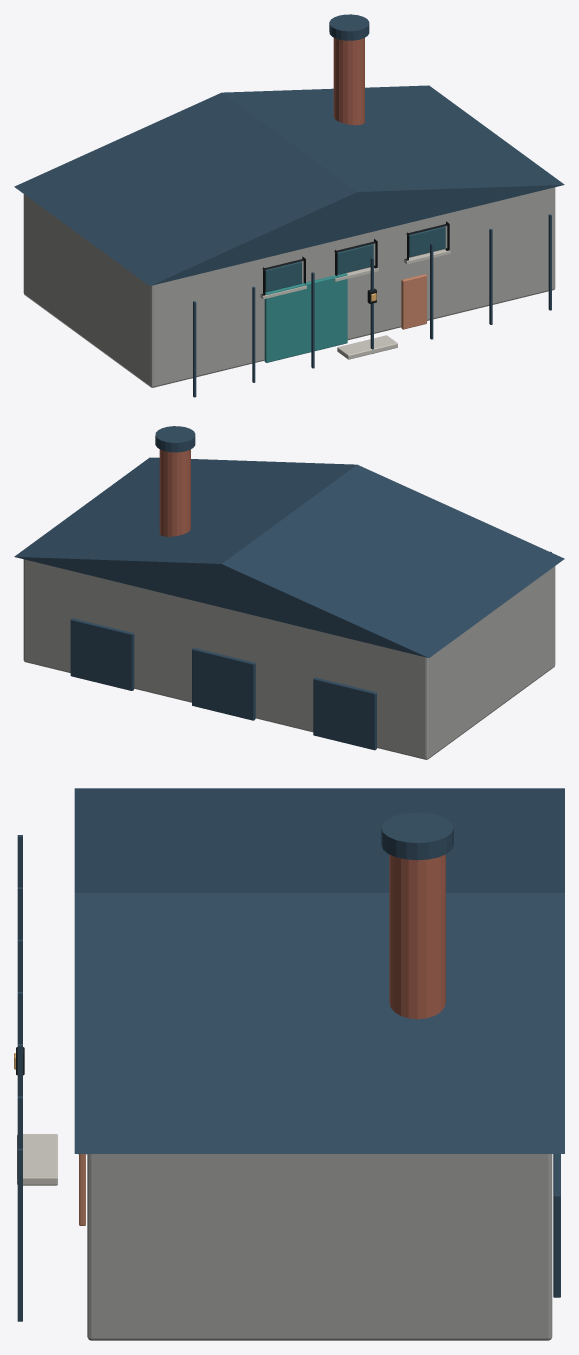
Rendered from IND_LOW_3x2_002.glb.
3 renders of one model, top to bottom at view 1: azimuth 30°, elevation 25°; view 2: azimuth 150°, elevation 25°; view 3: azimuth 270°, elevation 25°, orthographic. The views are drawn at different scales.
Visible parts, largest first — view 1: IND_LOW_3x2_002_Visual; view 2: IND_LOW_3x2_002_Visual; view 3: IND_LOW_3x2_002_Visual.
Boxes of the visible parts, x1,y1,x2,y2 form: IND_LOW_3x2_002_Visual: (14,14,564,397); IND_LOW_3x2_002_Visual: (14,426,564,759); IND_LOW_3x2_002_Visual: (14,788,564,1340).
Size of what is drawn, in the model's own units: 5.49 by 2.89 by 3.49.
